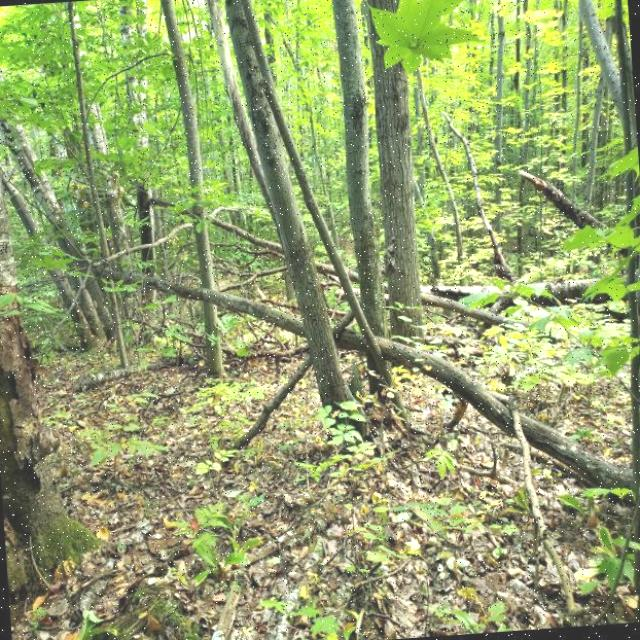fallen_object: (89, 116, 640, 353)
